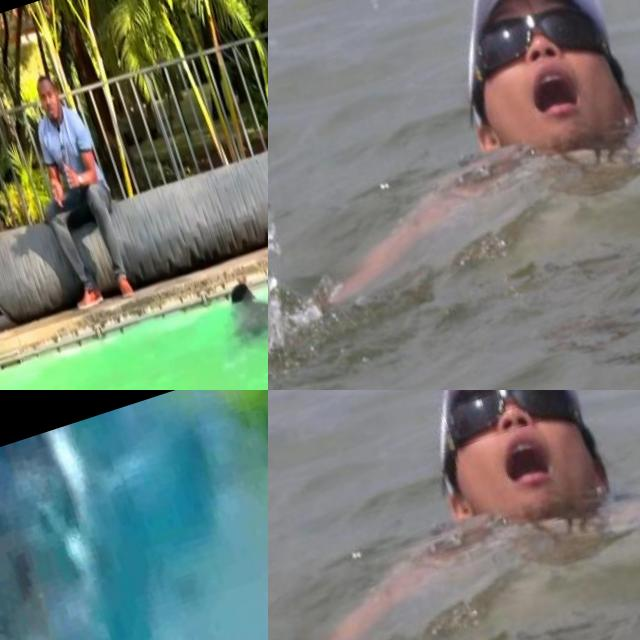drowning: (268, 0, 640, 368), (268, 390, 640, 640)
out of water: (7, 48, 161, 316)
swimming: (0, 498, 105, 640), (213, 267, 268, 351)
